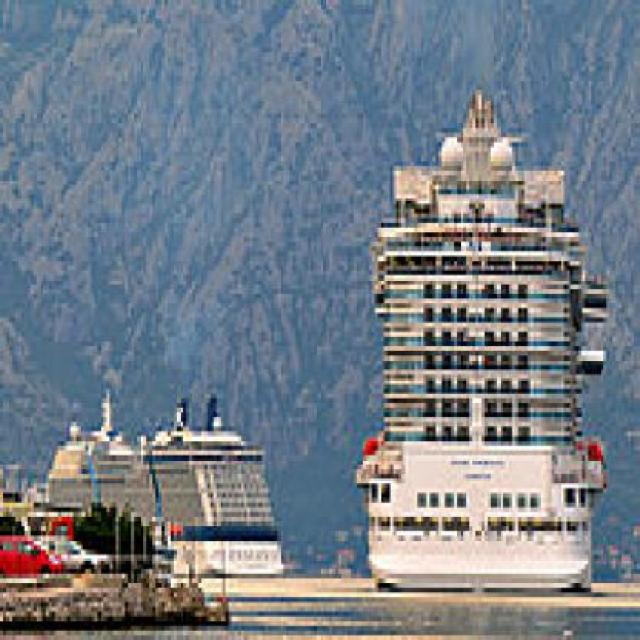cruise: (357, 67, 611, 613), (50, 380, 301, 571)
